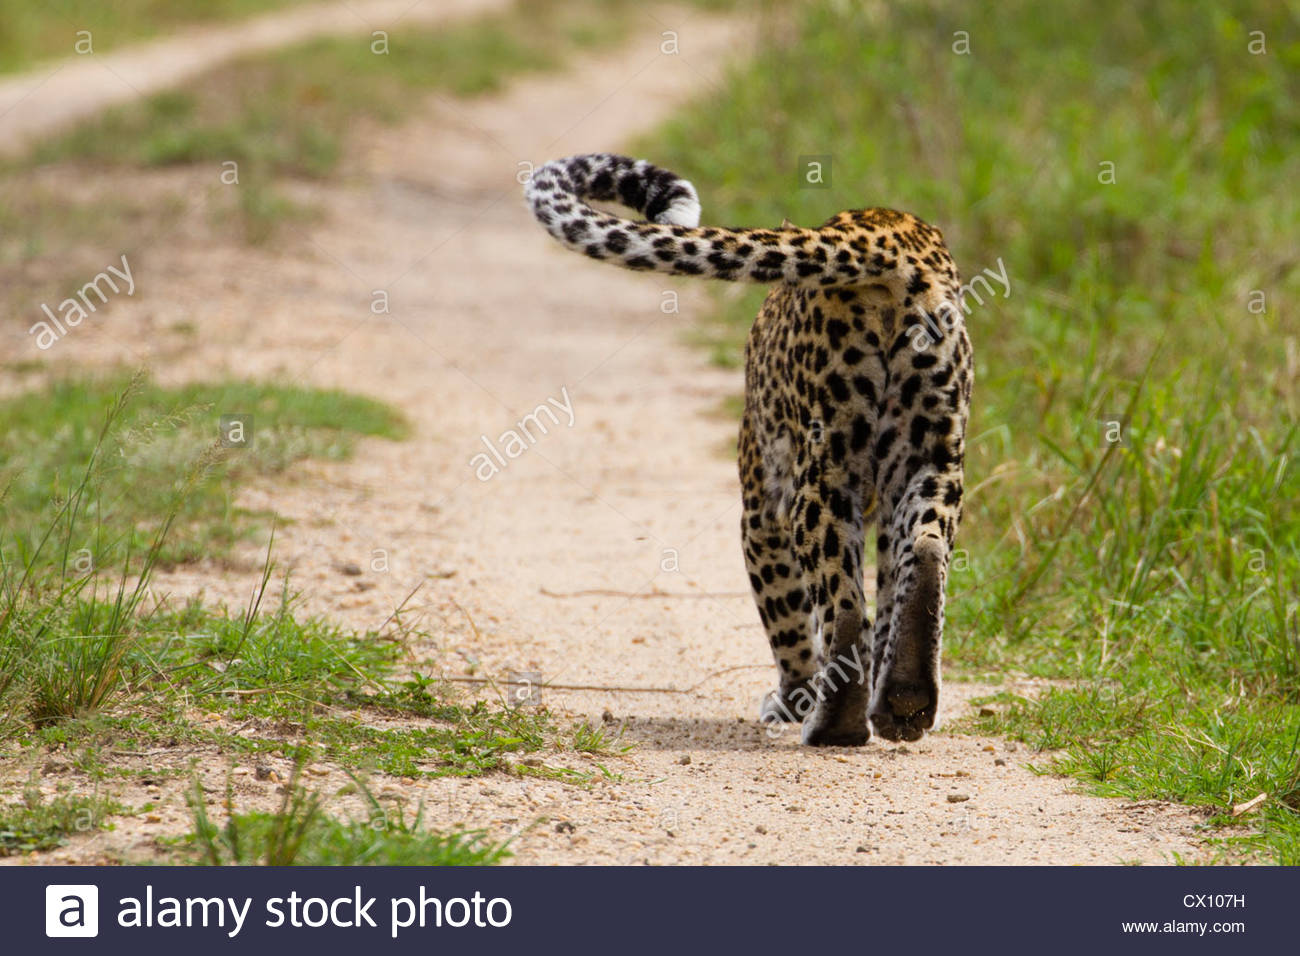Cheetah: (508, 140, 990, 761)
